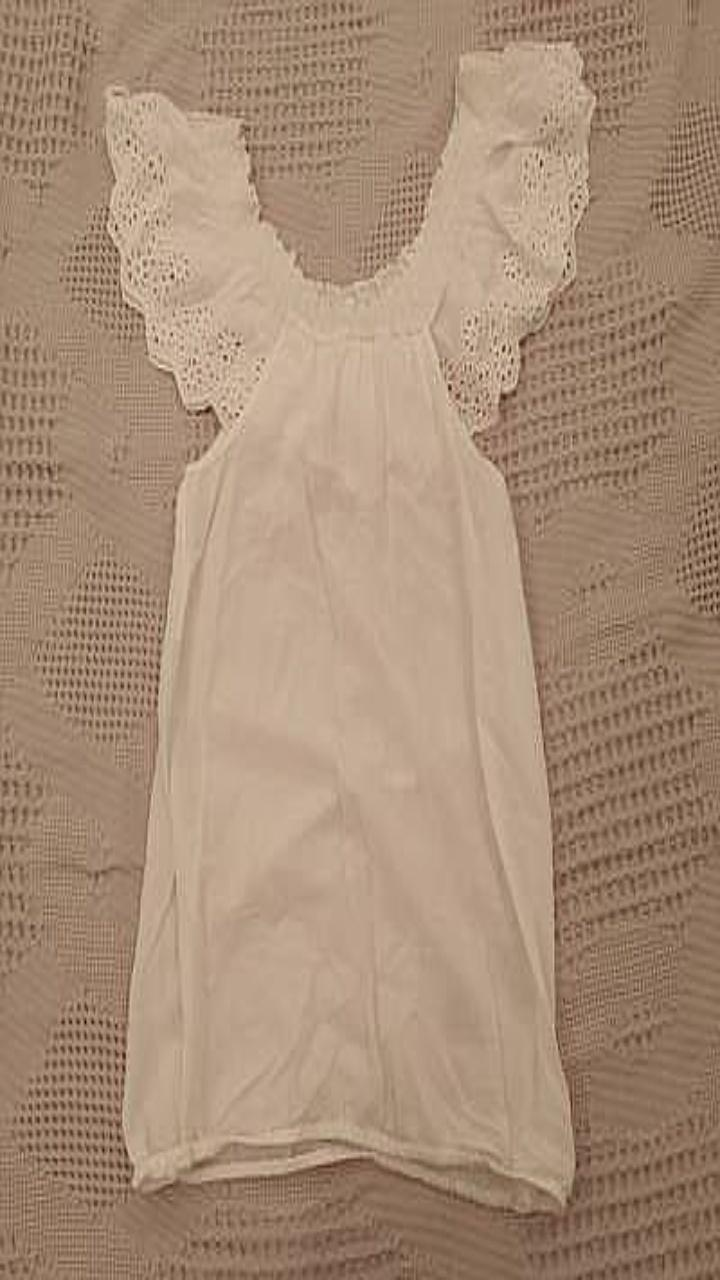T-Shirt: (105, 42, 594, 1210)
